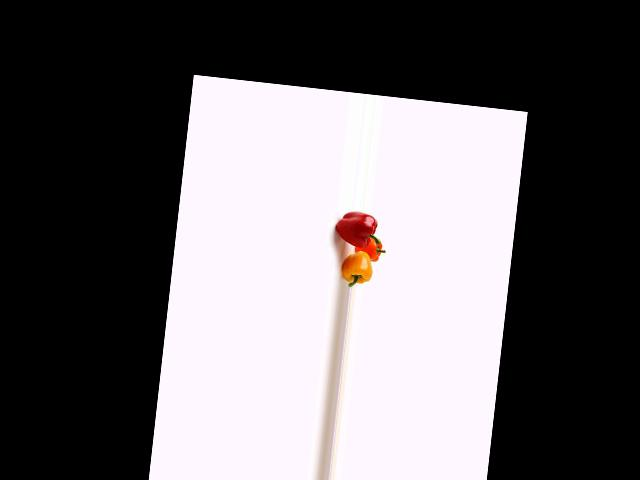bell_pepper: (329, 208, 387, 251)
